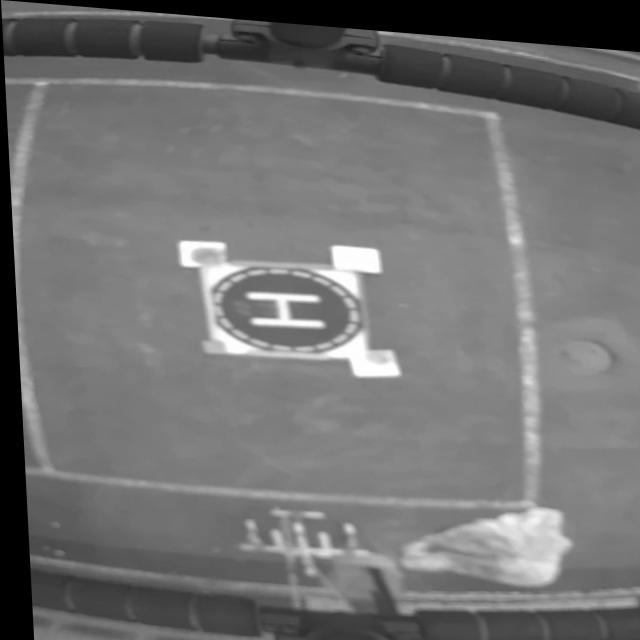Helipad: (240, 288, 318, 324)
